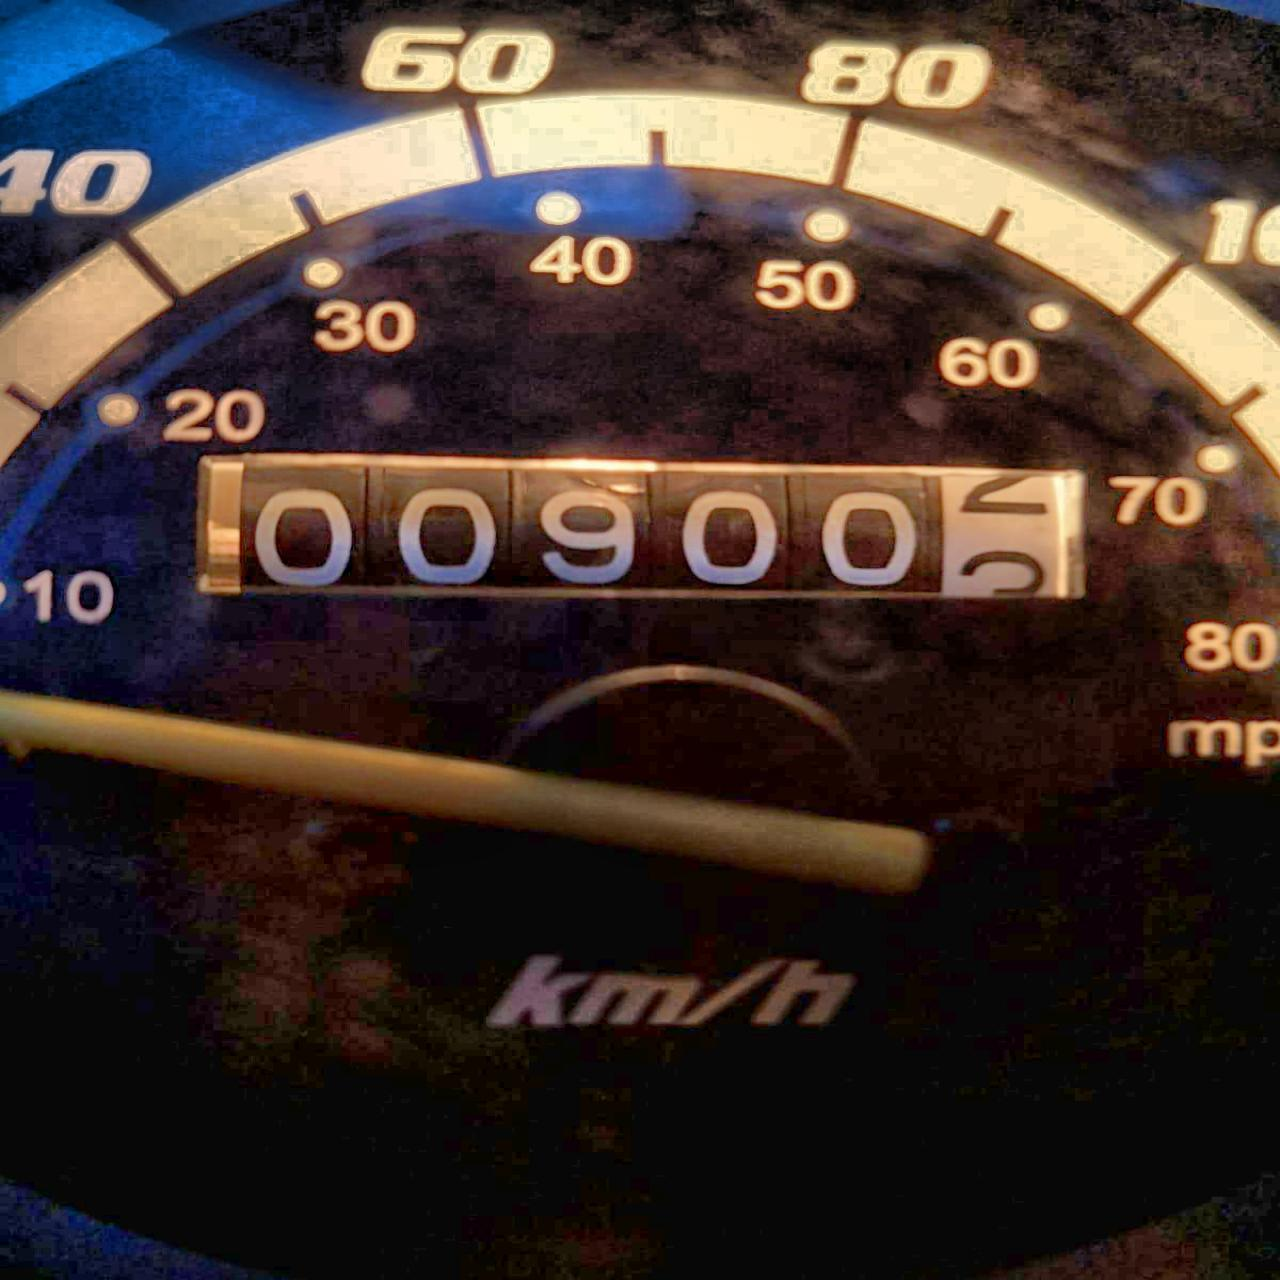0: (246, 473, 365, 588), (388, 479, 502, 587), (810, 487, 920, 597), (676, 483, 777, 595)
2: (956, 442, 1066, 532)
9: (534, 472, 646, 586)
odometer: (182, 442, 1103, 610)
